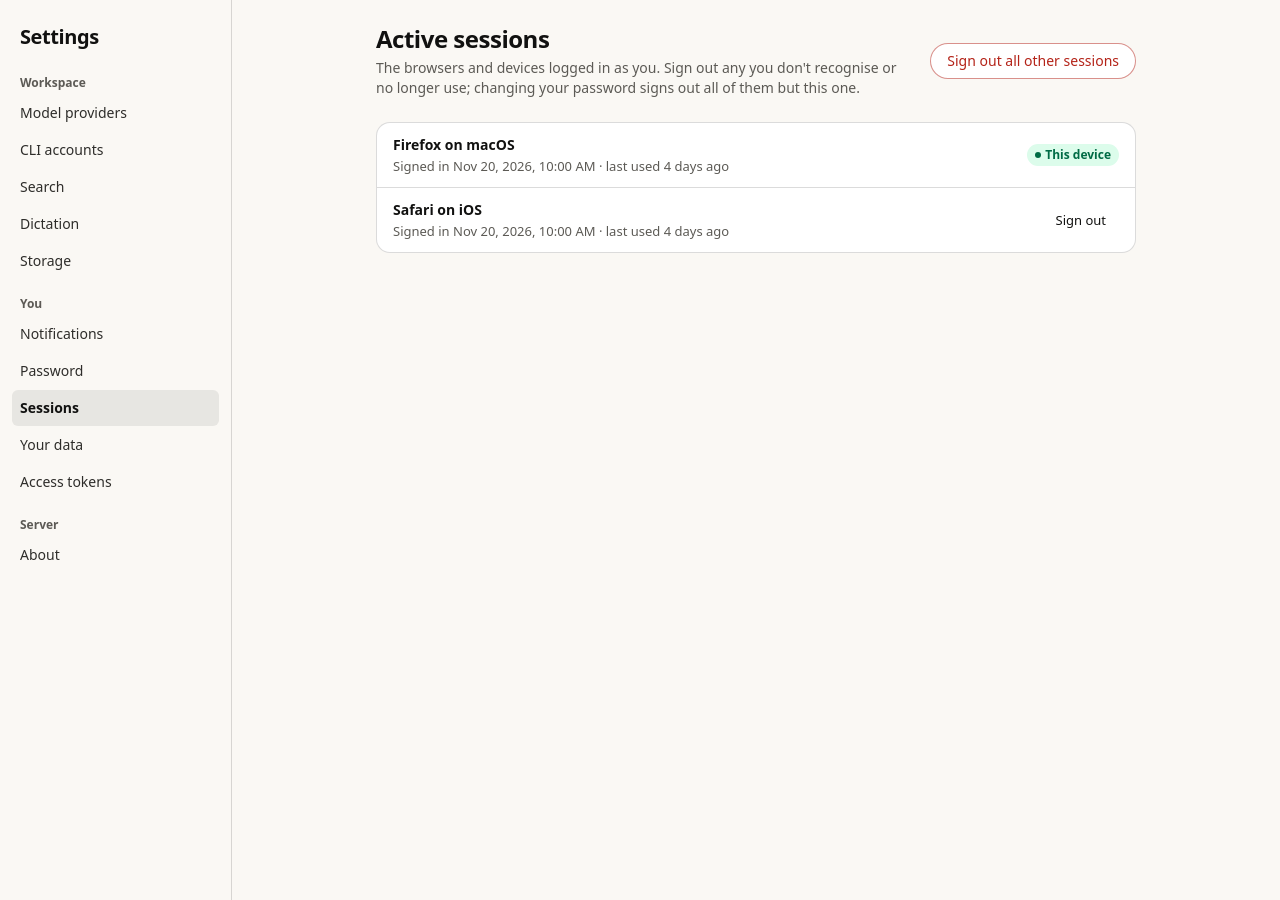
Scenario: signing out one session asks first, sends the request and shows the list as it is then
The image size is (1280, 900).
Check: the text "Safari on iOS" is shown, box [393,200,482,219]
Step 1. Click the button with aria-label "Sign out Safari on iOS" → [1081, 220], box [1042,206,1119,234]
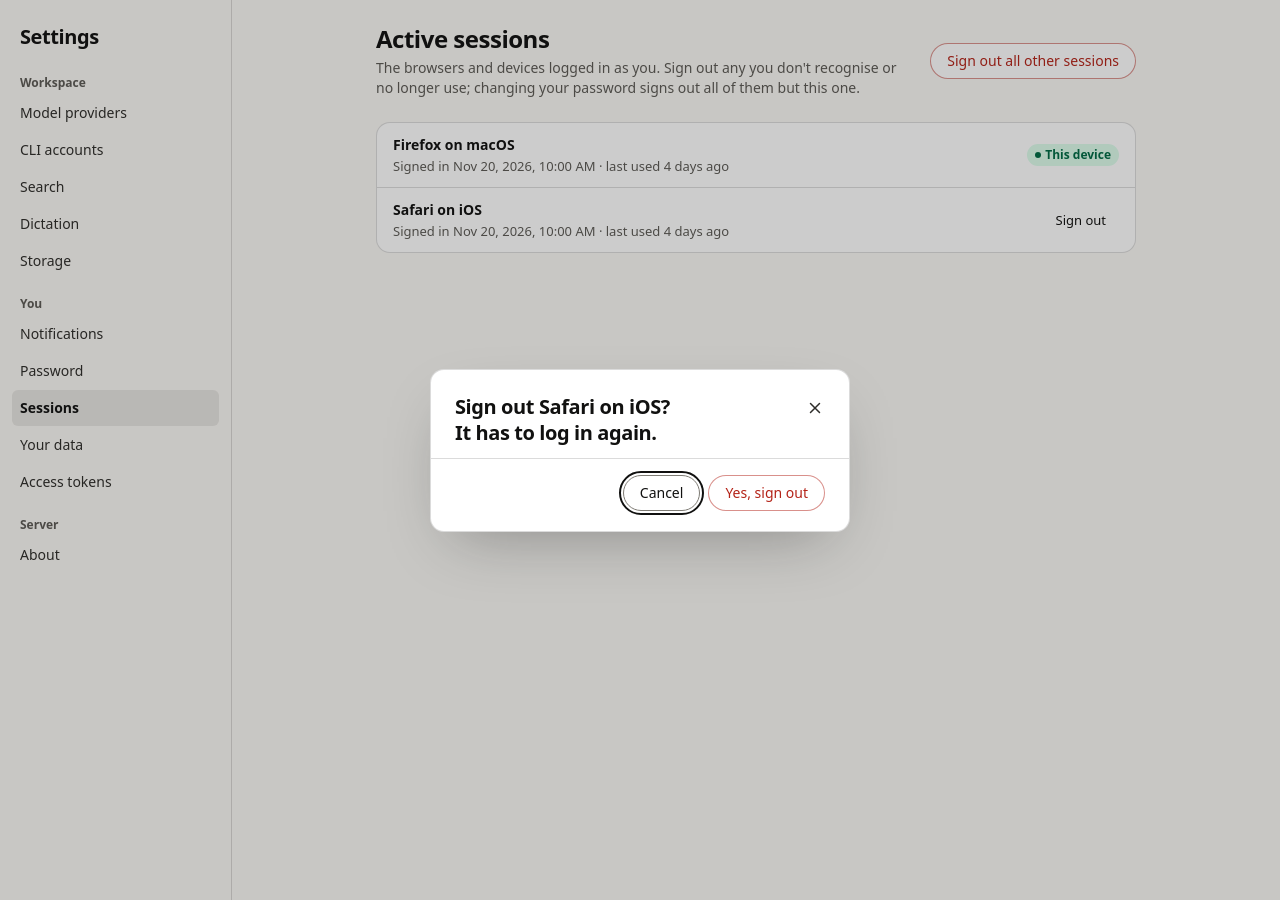
Step 2. Click the button "Yes, sign out" → [767, 492], box [708,474,825,510]
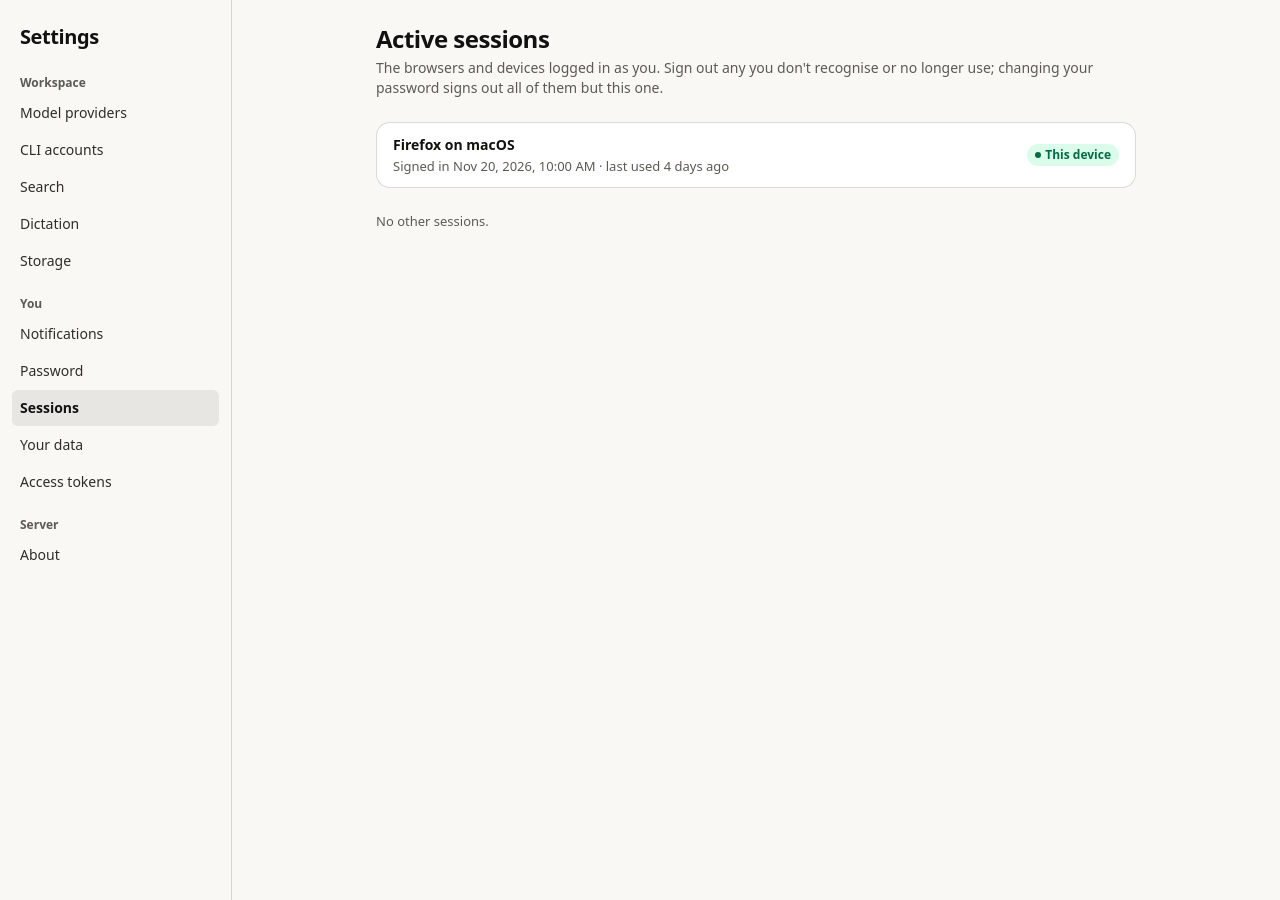
Check: the text "Safari on iOS" is gone
Check: the text "No other sessions." is shown, box [376,212,489,230]
